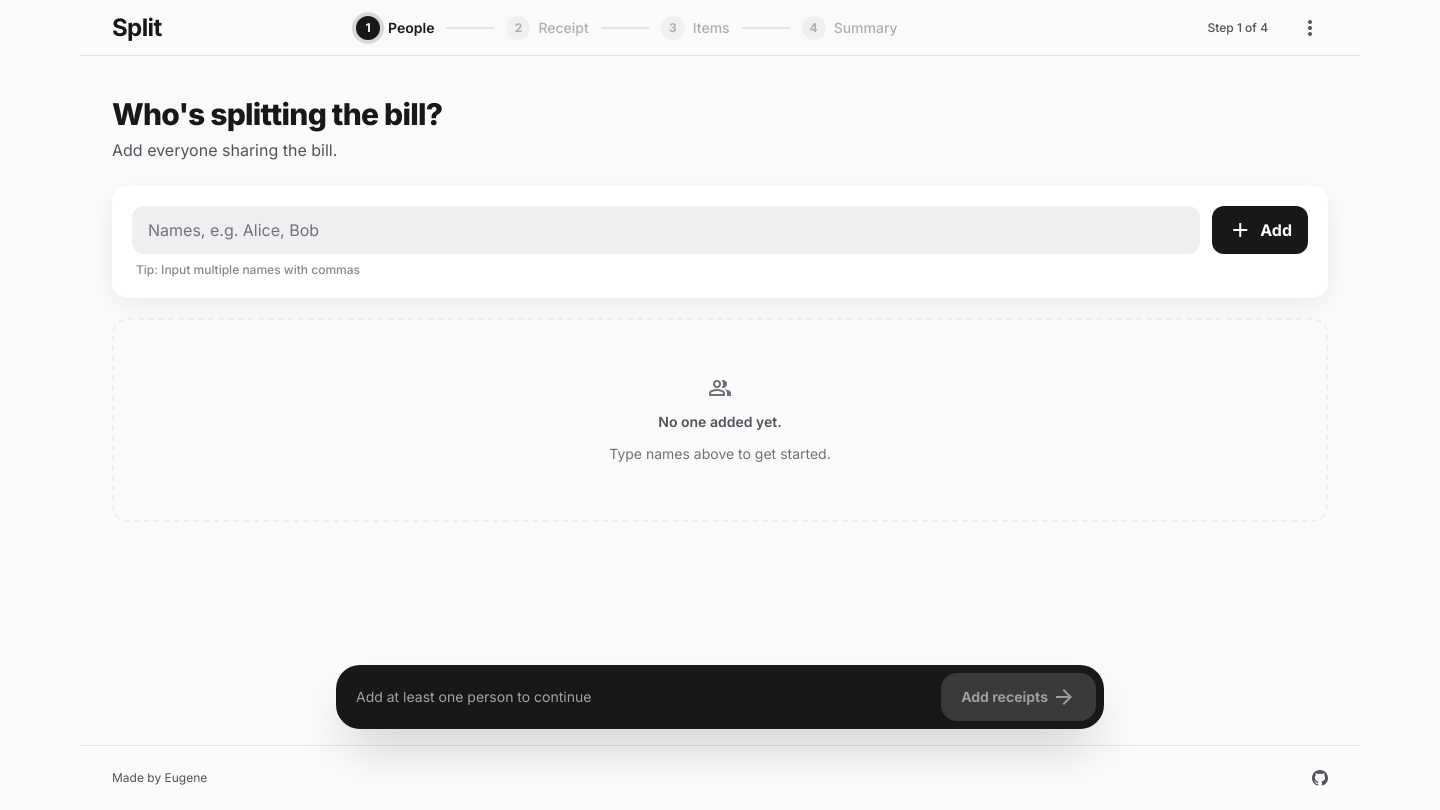
Test: ReceiptSplitterPage integration › People step › adds people from comma-separated input and enables continue
Type "Alice, Bob" into the field with test id "people-input" at point(666, 230), box [132,206,1200,254]
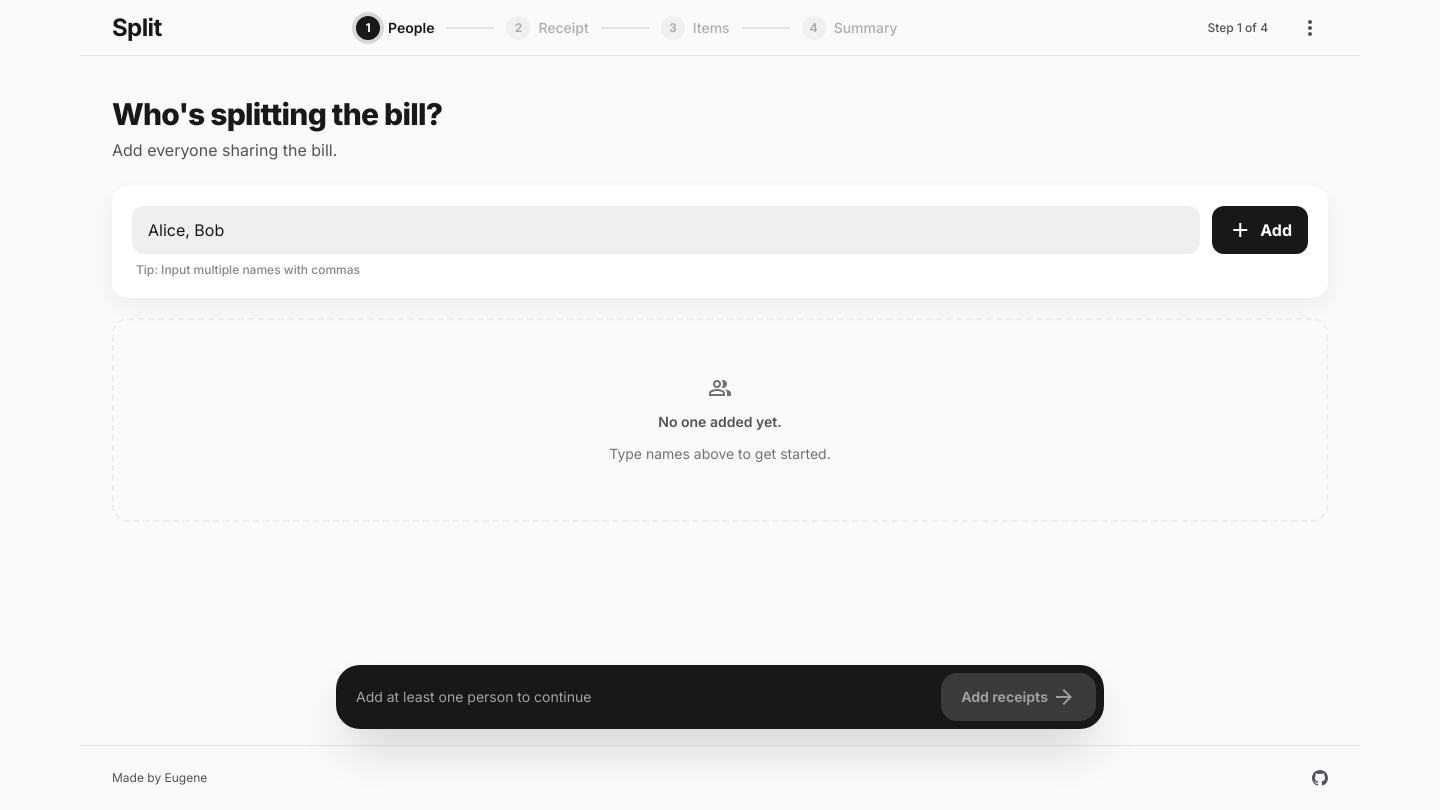
Click the button with test id "people-add-btn" at point(1260, 230), box [1212,206,1308,254]
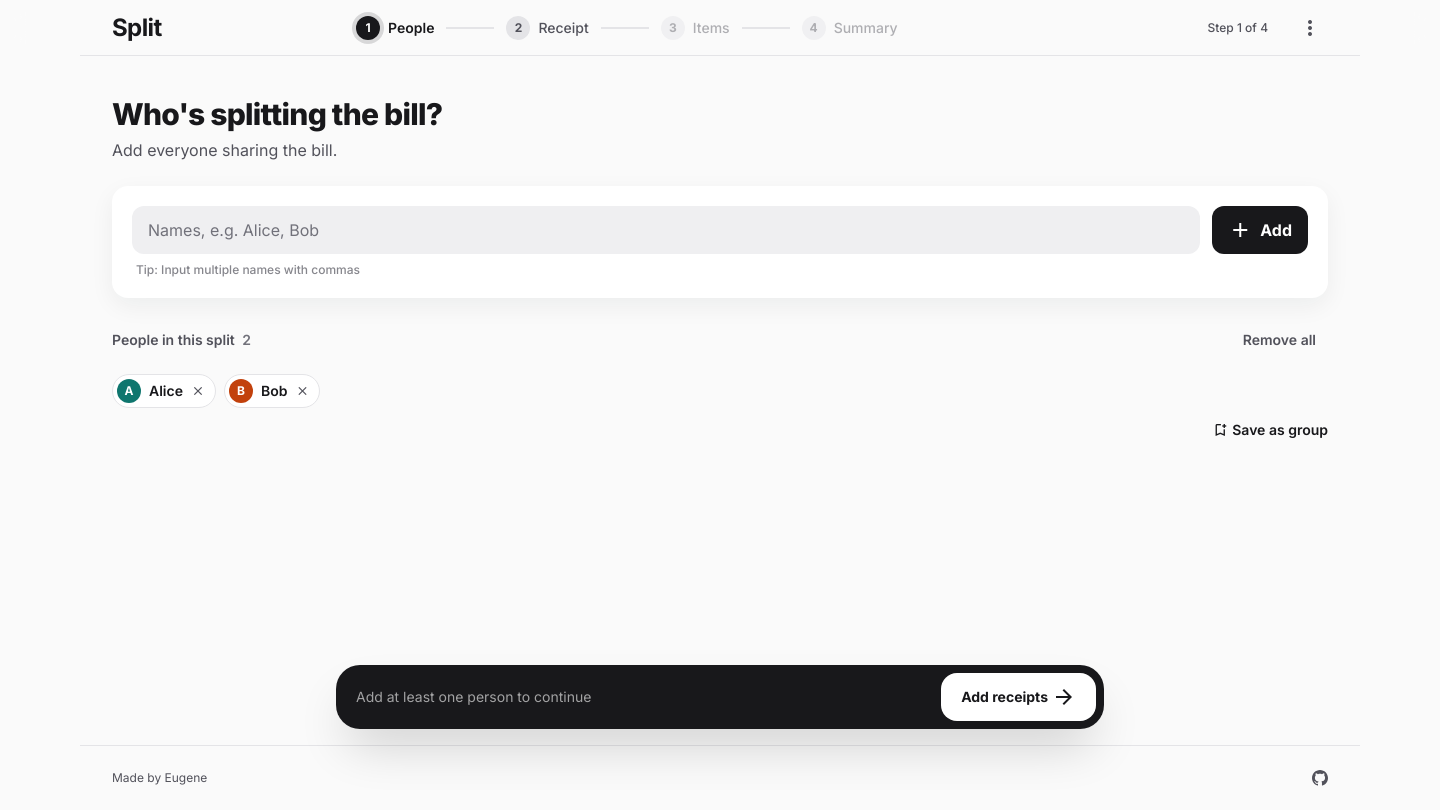
Now the element with test id "people-list" is shown, box [112,374,320,408]
Now the element with test id "people-empty-state" is gone
Now the button with test id "wizard-continue-btn" is enabled, box [941,673,1096,721]
